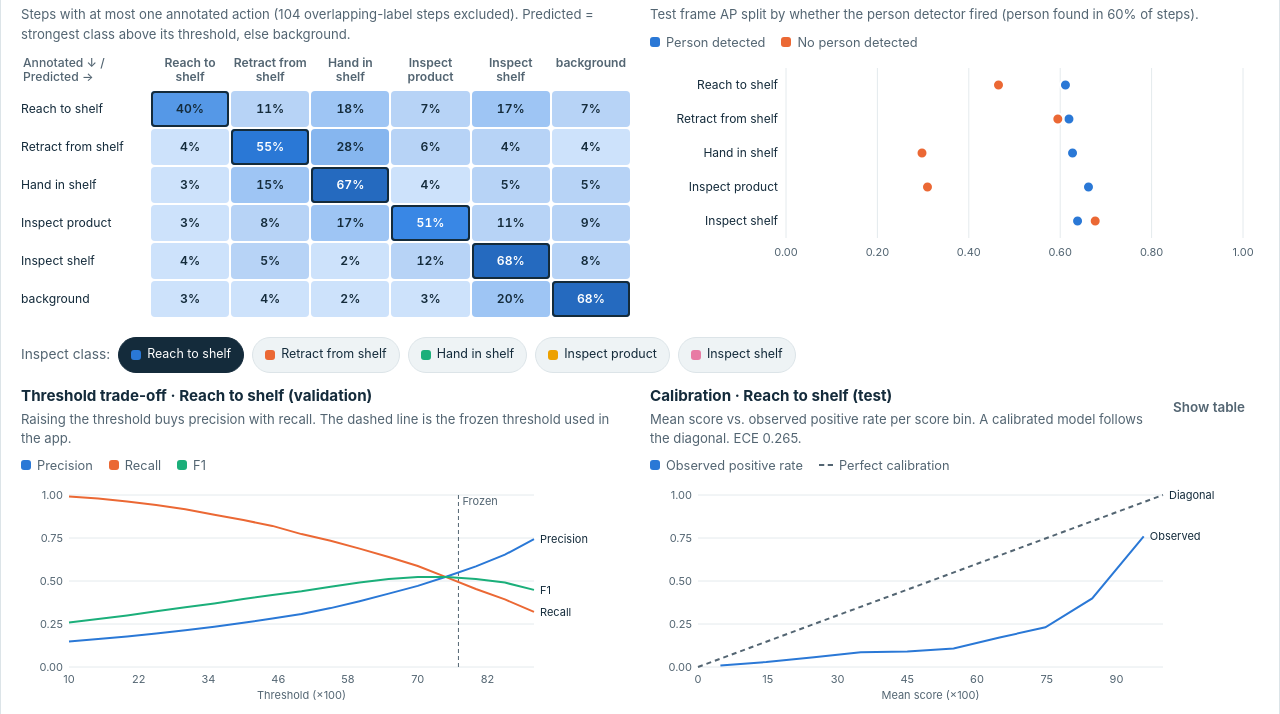
it: Research insights page › switches the focused class for threshold and calibration charts
(page scrolled)
Click the button "Inspect shelf" at (737, 355), box x1=678 y1=337 x2=796 y2=373
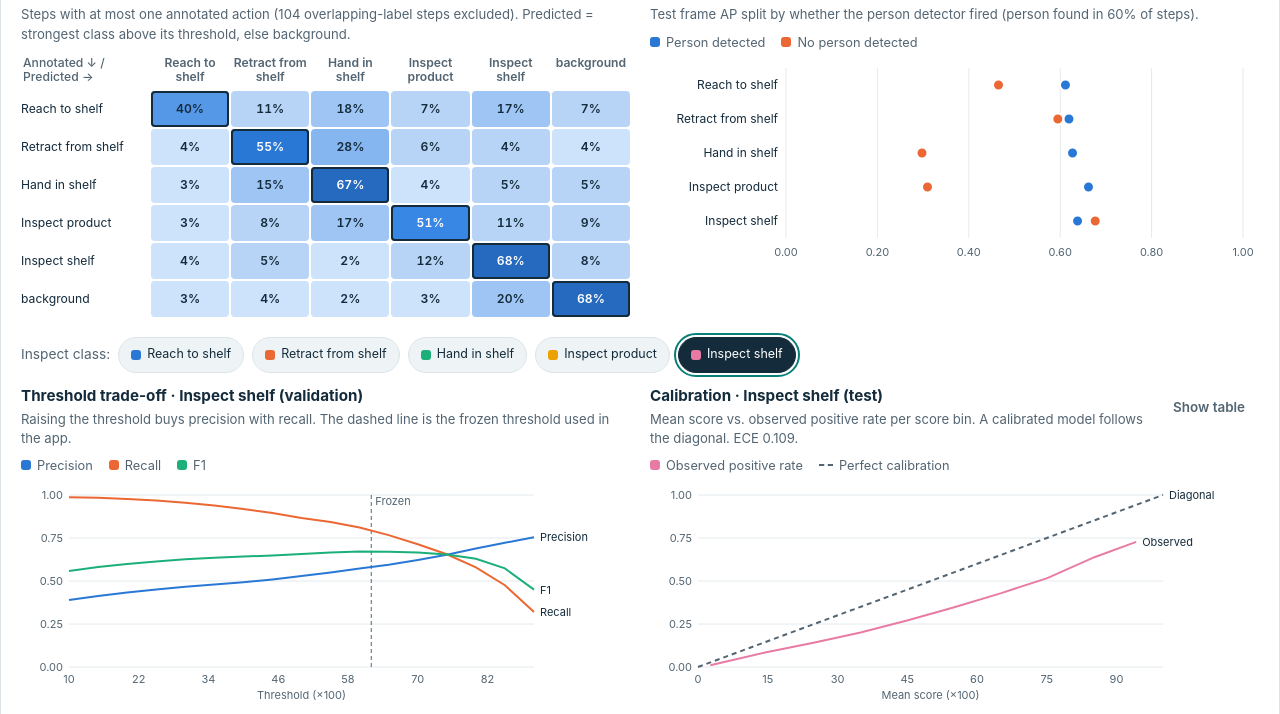
Expected: the text "Threshold trade-off · Inspect shelf (validation)" is shown, x1=21 y1=386 x2=363 y2=405
Expected: the text "Calibration · Inspect shelf (test)" is shown, x1=650 y1=386 x2=883 y2=405
